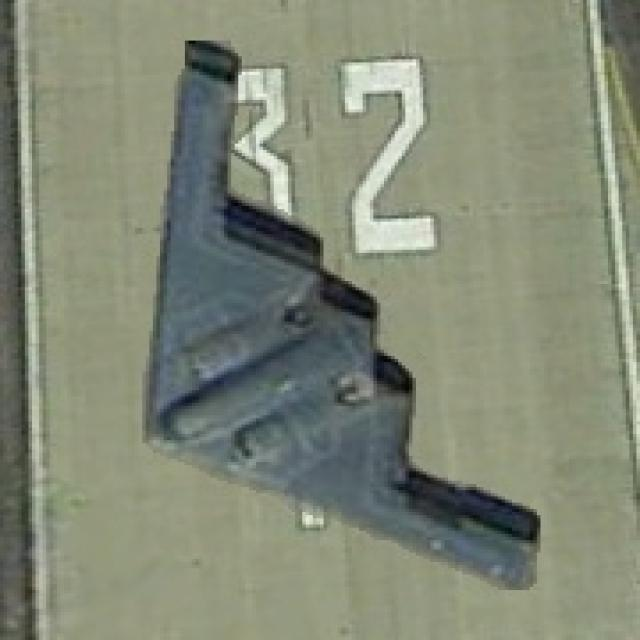B-2_TopDown: (132, 31, 544, 593)
